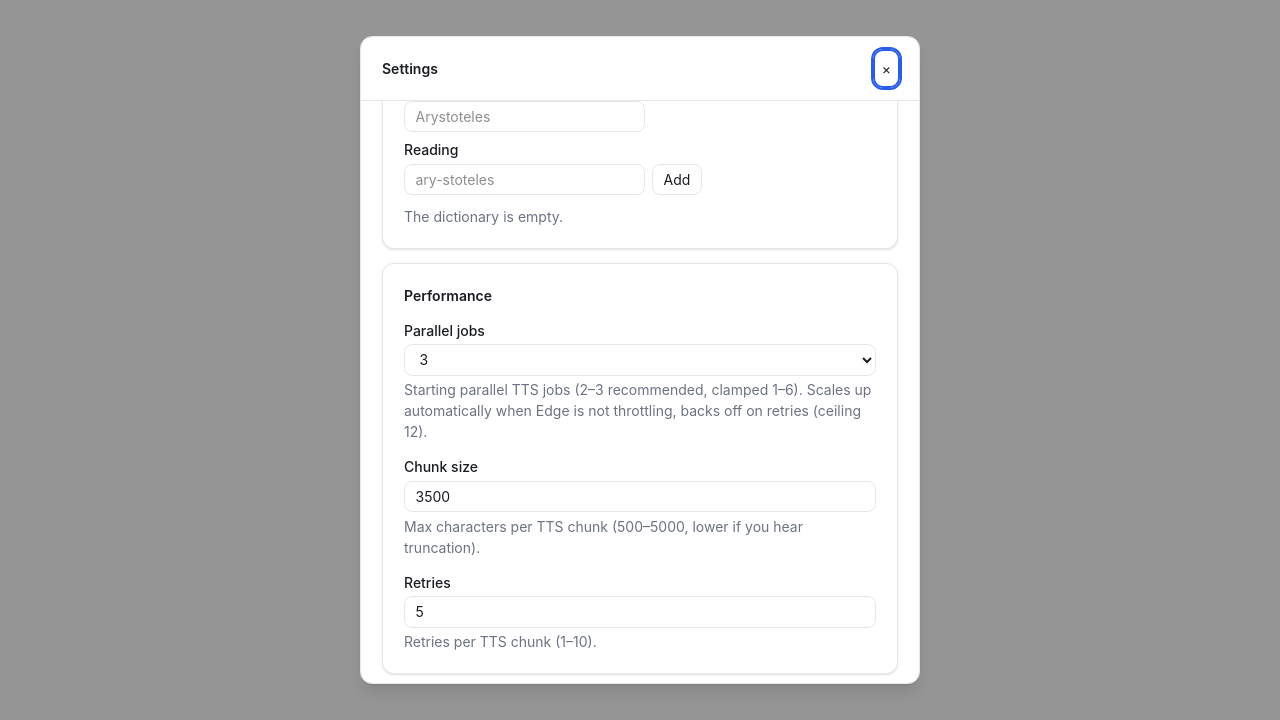
Scenario: Settings 4.2 — form + persist + i18n › rate invalid pattern rejected, error toast, not persisted
The width and height of the screenshot is (1280, 720).
(page scrolled)
Select "2" in the dropdown with test id "settings-perf-parallel": (640, 360) [404, 344, 876, 376]
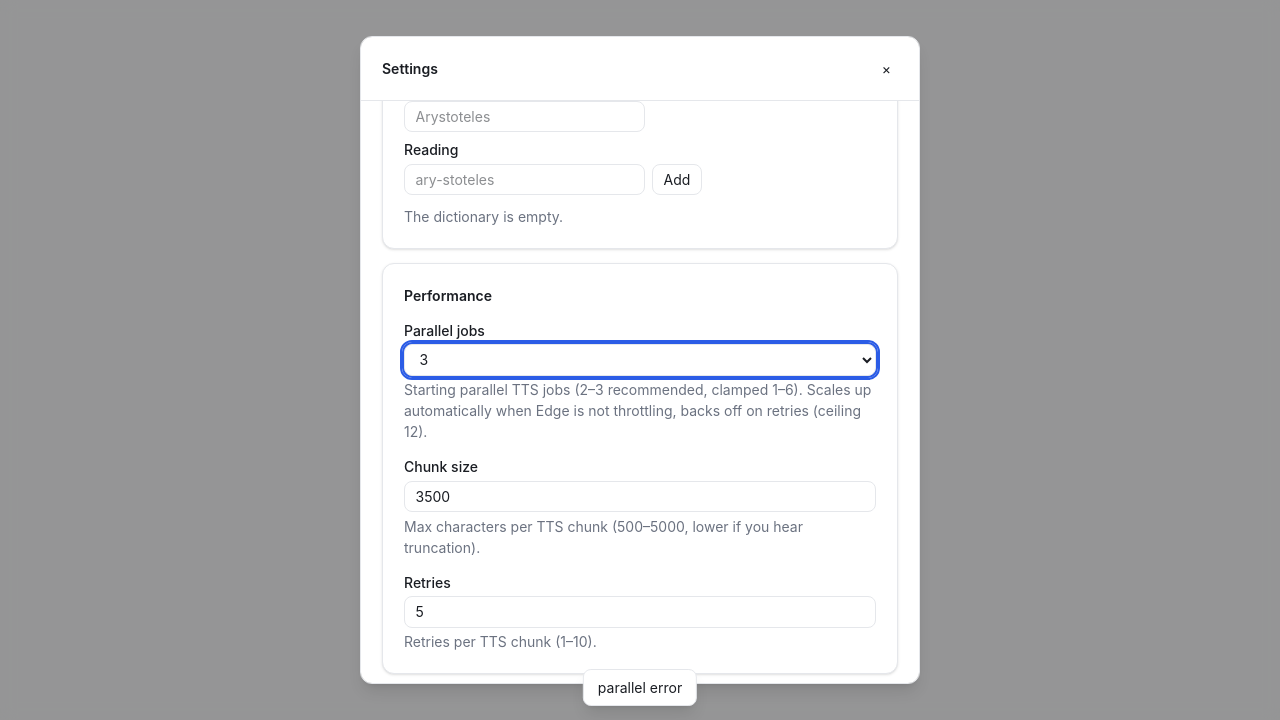
Expected: the message with test id "settings-toast" reads "parallel error", [598, 679, 682, 696]
